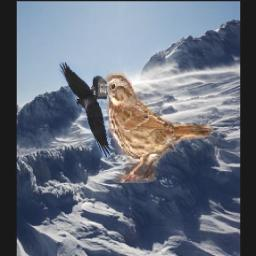Crow: (59, 61, 111, 158)
Sparrow: (99, 71, 214, 184)
